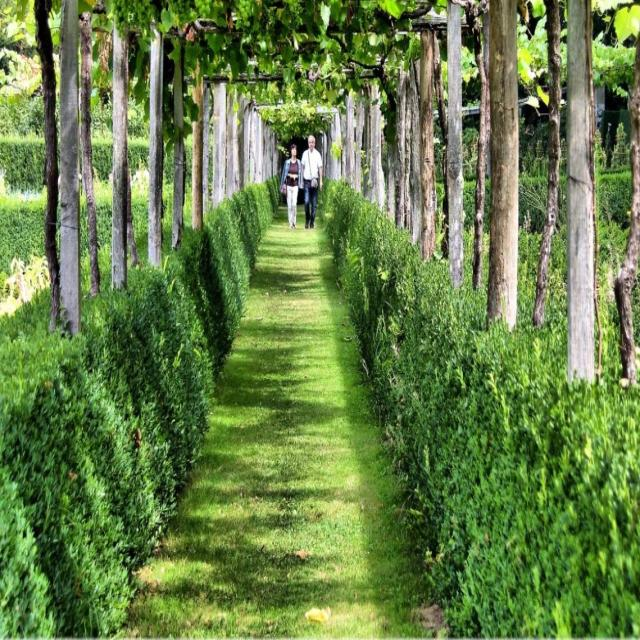row: (100, 193, 467, 640)
